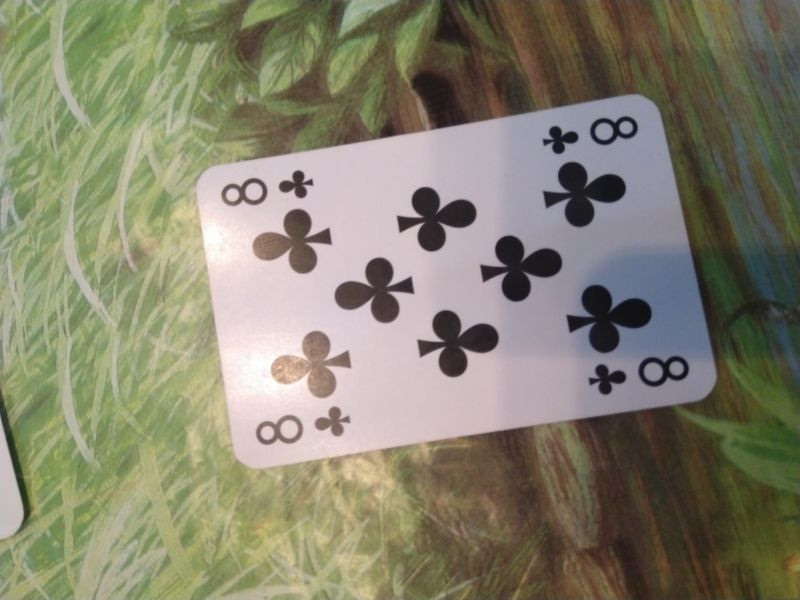8c: (586, 353, 693, 398), (537, 111, 641, 157), (254, 401, 352, 449), (220, 166, 317, 207)
